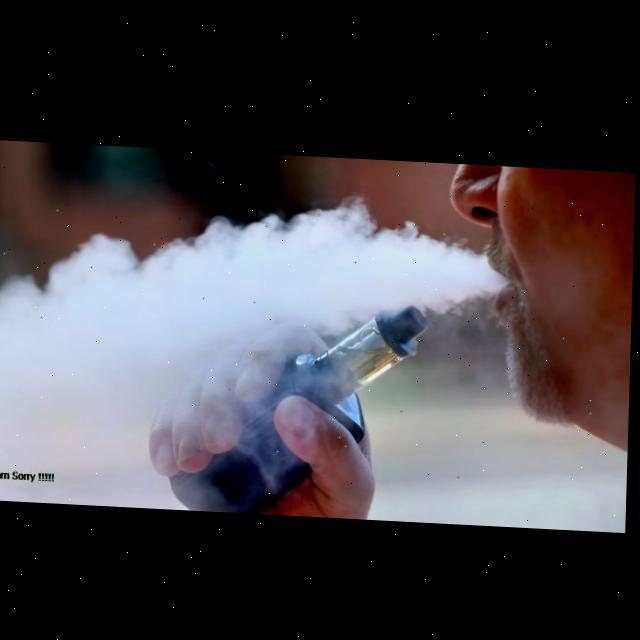vape: (172, 289, 432, 518)
